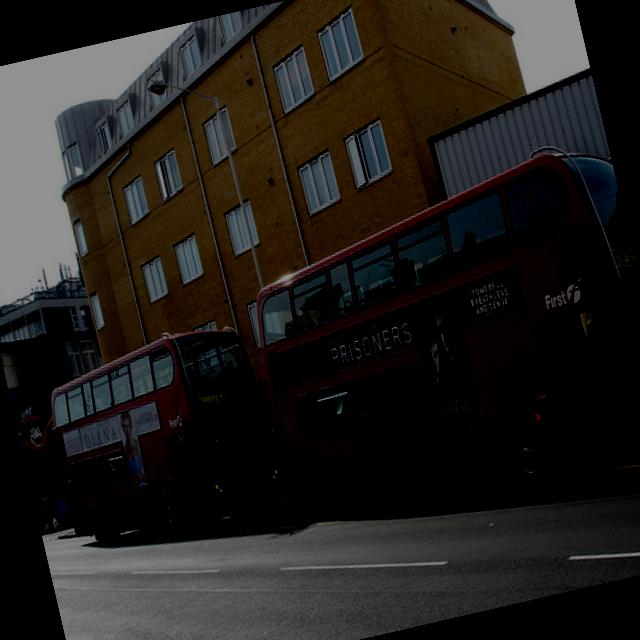Vehicle: (221, 131, 640, 554), (33, 313, 290, 554)
